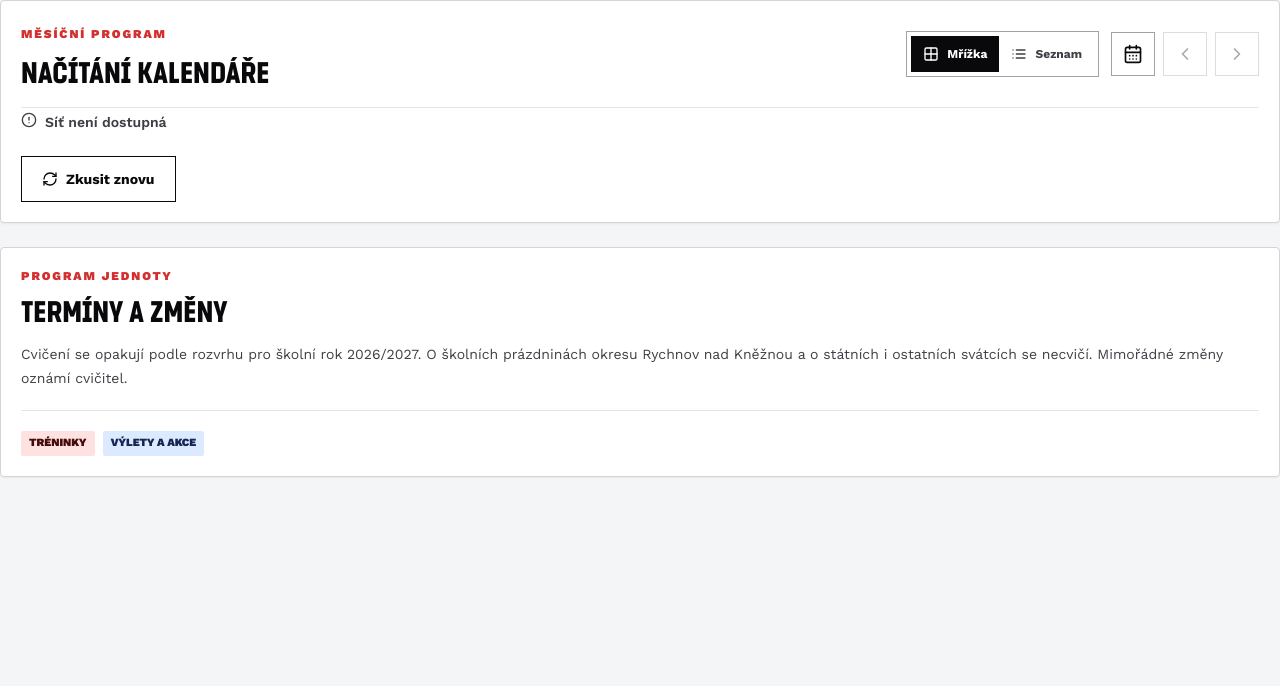
Scenario: calendar errors offer retry without replacing data with examples
Click the button "Zkusit znovu": (98, 179) left=21, top=156, right=176, bottom=202
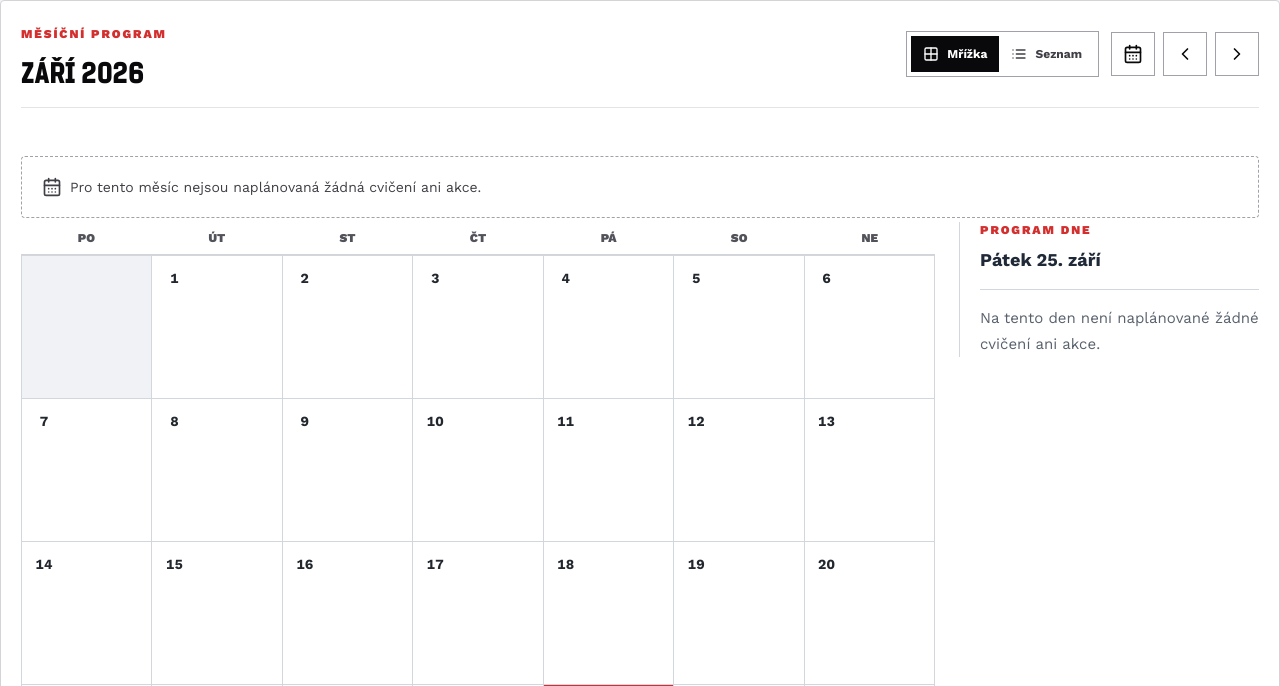
Result: the text "Pro tento měsíc nejsou naplánovaná žádná cvičení ani akce." is shown at left=21, top=156, right=1259, bottom=218
